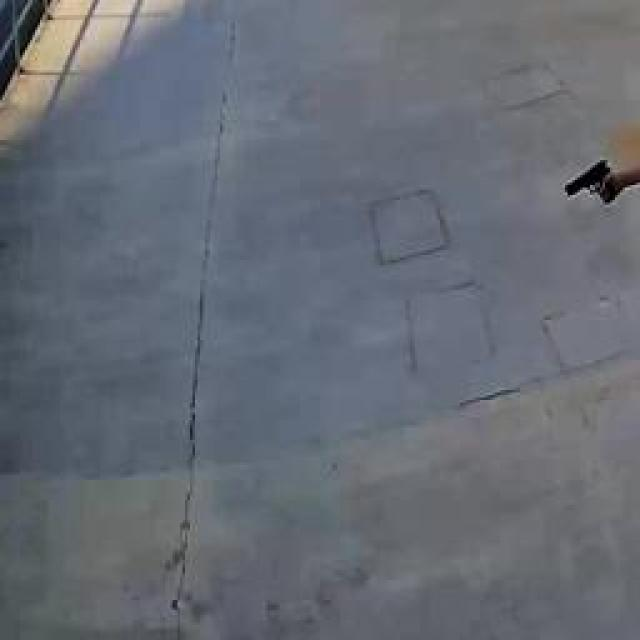Guns: (551, 150, 639, 212)
